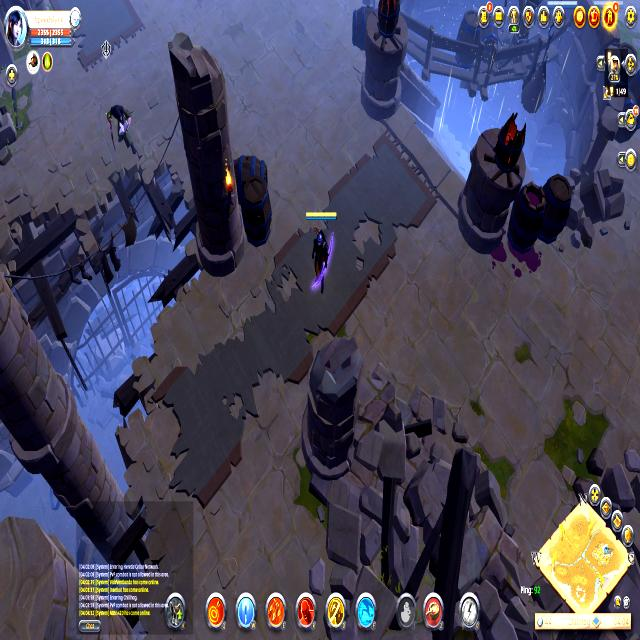ore: (103, 100, 138, 161)
red: (300, 204, 339, 296)
